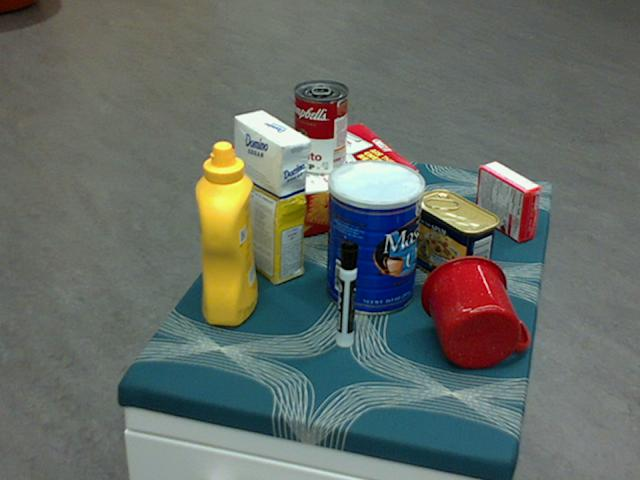cracker_box: (218, 123, 418, 247)
gelatin_box: (476, 161, 542, 242)
large_marker: (336, 240, 357, 348)
master_chef_can: (327, 159, 425, 315)
mug: (421, 254, 527, 368)
mustard_bottle: (195, 142, 258, 326)
potted_meat_can: (414, 190, 500, 290)
sugar_box: (233, 111, 309, 286)
tomato_soup_can: (294, 81, 348, 176)
tuna_fish_can: (342, 166, 414, 237)
